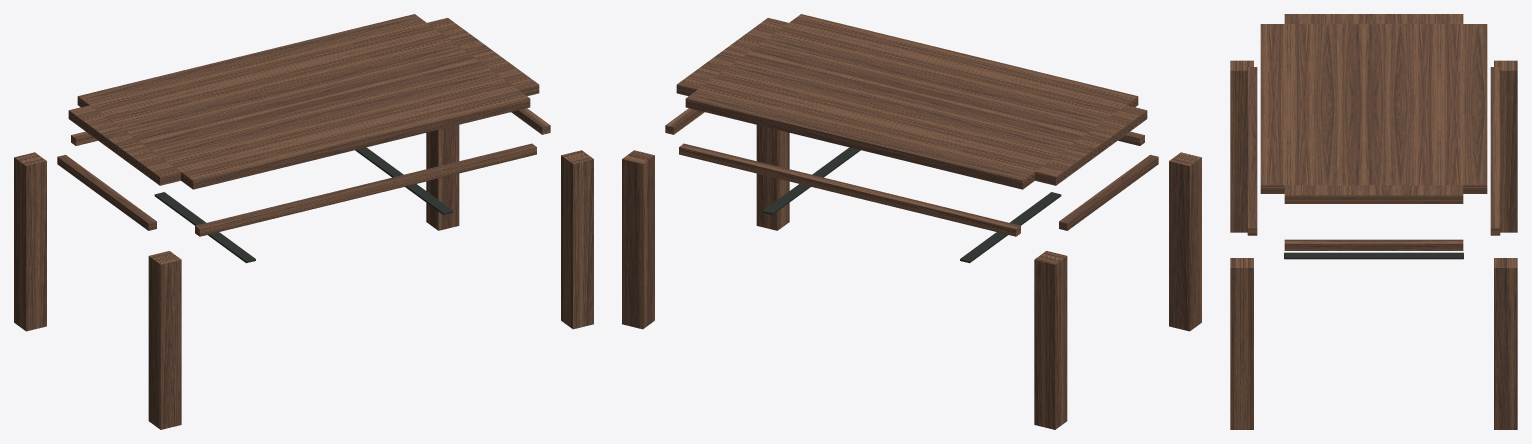
File: ref-parsons-72-walnut.glb
3 renders of one model, left to right at view 1: azimuth 30°, elevation 25°; view 2: azimuth 150°, elevation 25°; view 3: azimuth 270°, elevation 25°, orthographic. The views are drawn at different scales.
Visible parts, largest first — view 1: top-field, leg--1-1, leg-1-1, leg--1--1, miter-long-1, top-end--1, leg-1--1, top-end-1, miter-end--1, brace--1, brace-1; view 2: top-field, leg--1--1, leg-1--1, leg--1-1, miter-long--1, top-end--1, leg-1-1, top-end-1, miter-end--1, brace--1, brace-1; view 3: top-field, leg-1-1, leg-1--1, top-end-1, leg--1-1, leg--1--1, miter-end-1, miter-long-1, miter-long--1, top-end--1, brace-1.
Part boxes in pixels (x1=…): top-field: x1=77, y1=14, x2=530, y2=189; leg--1-1: x1=148, y1=251, x2=181, y2=429; leg-1-1: x1=561, y1=150, x2=593, y2=329; leg--1--1: x1=14, y1=152, x2=46, y2=331; miter-long-1: x1=195, y1=143, x2=536, y2=236; top-end--1: x1=68, y1=105, x2=180, y2=185; leg-1--1: x1=426, y1=125, x2=459, y2=230; top-end-1: x1=427, y1=18, x2=539, y2=96; miter-end--1: x1=57, y1=154, x2=156, y2=230; brace--1: x1=154, y1=192, x2=255, y2=263; brace-1: x1=355, y1=147, x2=453, y2=214; top-field: x1=685, y1=14, x2=1138, y2=189; leg--1--1: x1=1034, y1=251, x2=1067, y2=429; leg-1--1: x1=622, y1=150, x2=654, y2=329; leg--1-1: x1=1169, y1=152, x2=1201, y2=331; miter-long--1: x1=679, y1=143, x2=1020, y2=236; top-end--1: x1=1035, y1=105, x2=1147, y2=185; leg-1-1: x1=756, y1=125, x2=789, y2=230; top-end-1: x1=676, y1=18, x2=788, y2=96; miter-end--1: x1=1059, y1=154, x2=1158, y2=230; brace--1: x1=960, y1=192, x2=1061, y2=263; brace-1: x1=762, y1=147, x2=860, y2=214; top-field: x1=1260, y1=24, x2=1487, y2=193; leg-1-1: x1=1230, y1=258, x2=1253, y2=429; leg-1--1: x1=1494, y1=258, x2=1517, y2=429; top-end-1: x1=1284, y1=185, x2=1463, y2=203; leg--1-1: x1=1230, y1=60, x2=1253, y2=232; leg--1--1: x1=1494, y1=60, x2=1517, y2=232; miter-end-1: x1=1284, y1=239, x2=1463, y2=250; miter-long-1: x1=1247, y1=67, x2=1257, y2=235; miter-long--1: x1=1490, y1=67, x2=1500, y2=235; top-end--1: x1=1284, y1=14, x2=1463, y2=23; brace-1: x1=1284, y1=252, x2=1463, y2=259.
Size of the model in its own units: 2.09 by 1.04 by 1.22.
2 materials, 1 textured.
